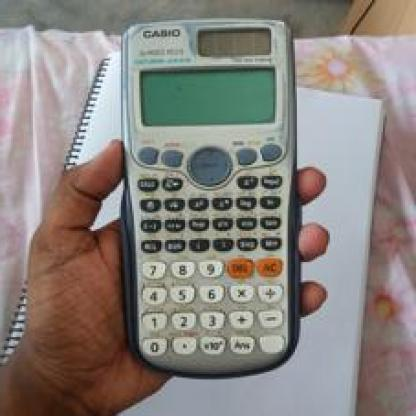calculator: (114, 18, 306, 386)
